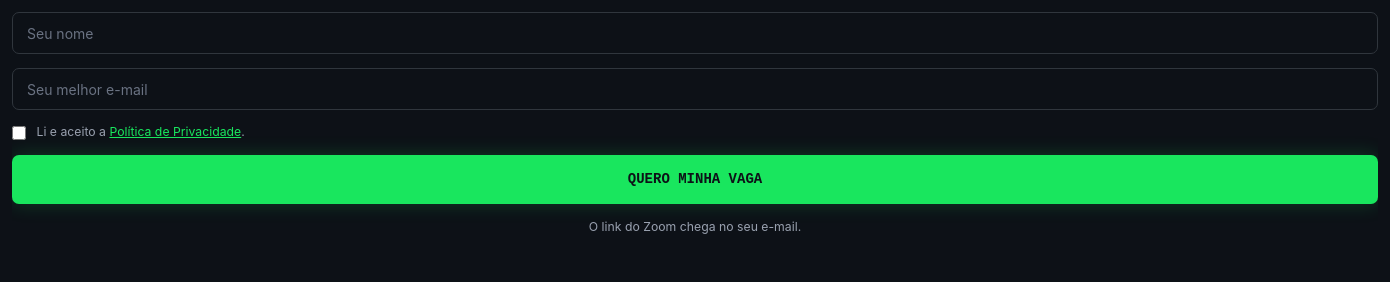
Test case: SementeForm (inscrição no webinário) › erro no cadastro: mostra a mensagem, reabilita o botão, não dispara Lead nem navega
Type "Maria Silva" into the field with placeholder "Seu nome" at (695, 33), box [12,12,1378,54]
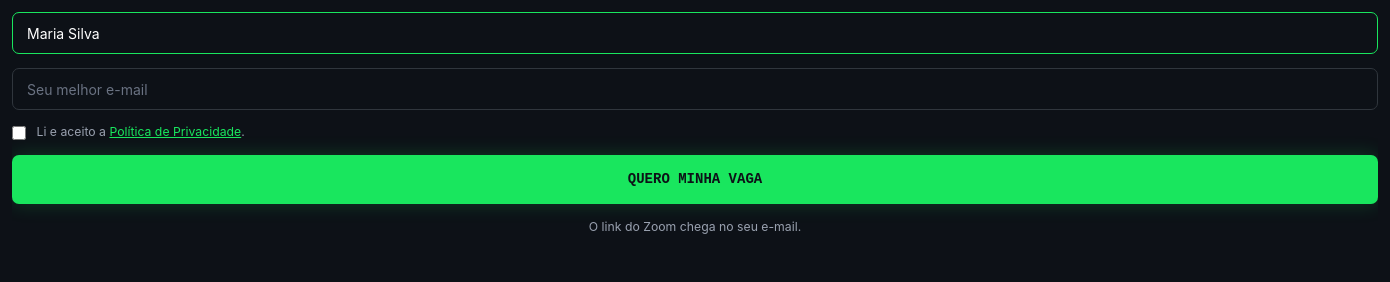
Type "maria@exemplo.com" into the field with placeholder "Seu melhor e-mail" at (695, 89), box [12,68,1378,110]
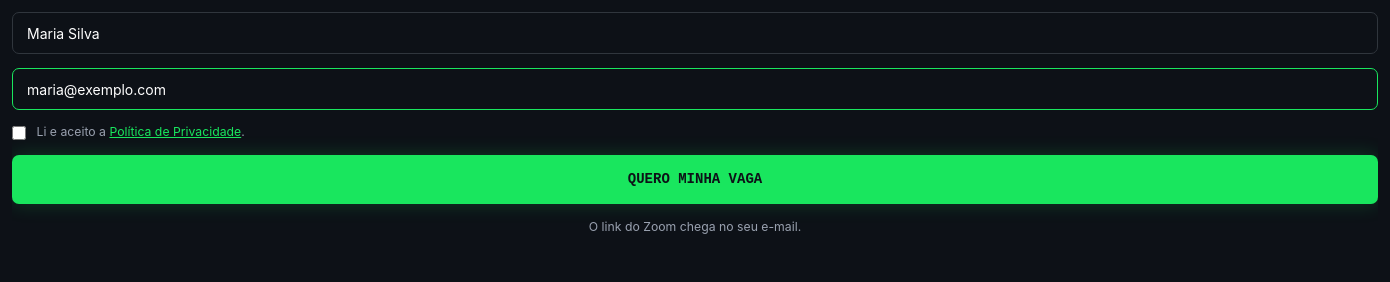
Click the checkbox at (19, 133), box [12,126,26,140]
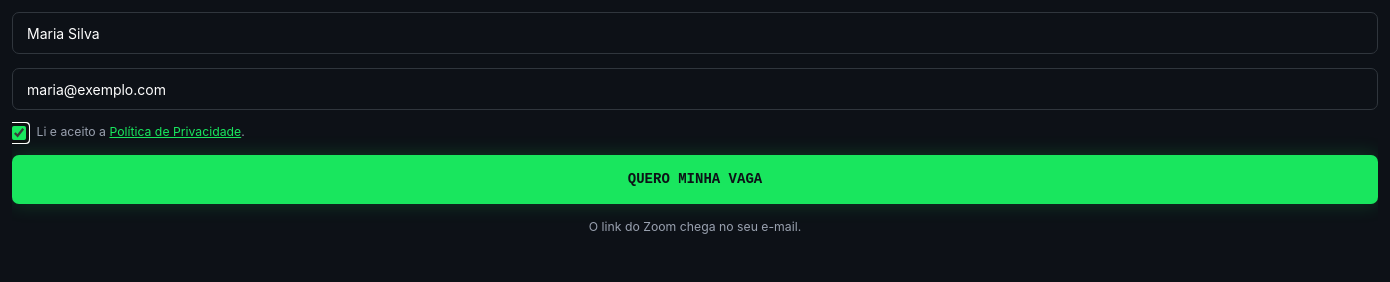
Click the button at (695, 179), box [12,155,1378,204]
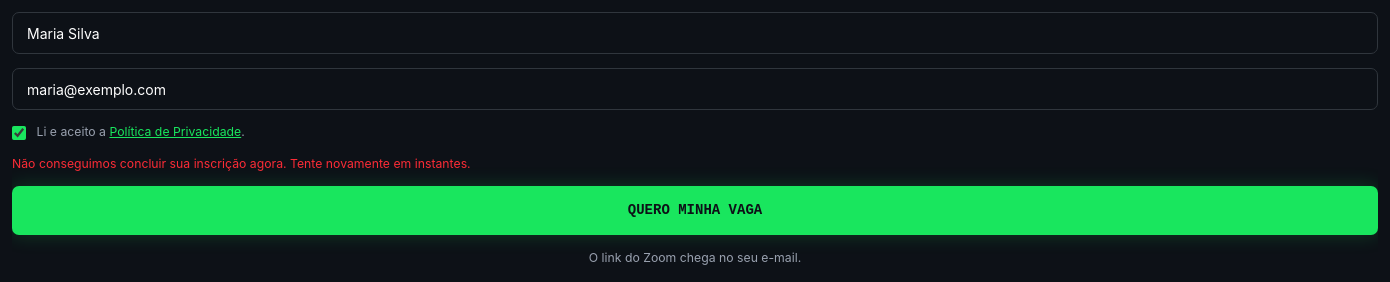
Expected: the button is enabled, [12,186,1378,235]
Expected: the text "Não conseguimos concluir sua inscrição" is shown, [12,156,471,171]
